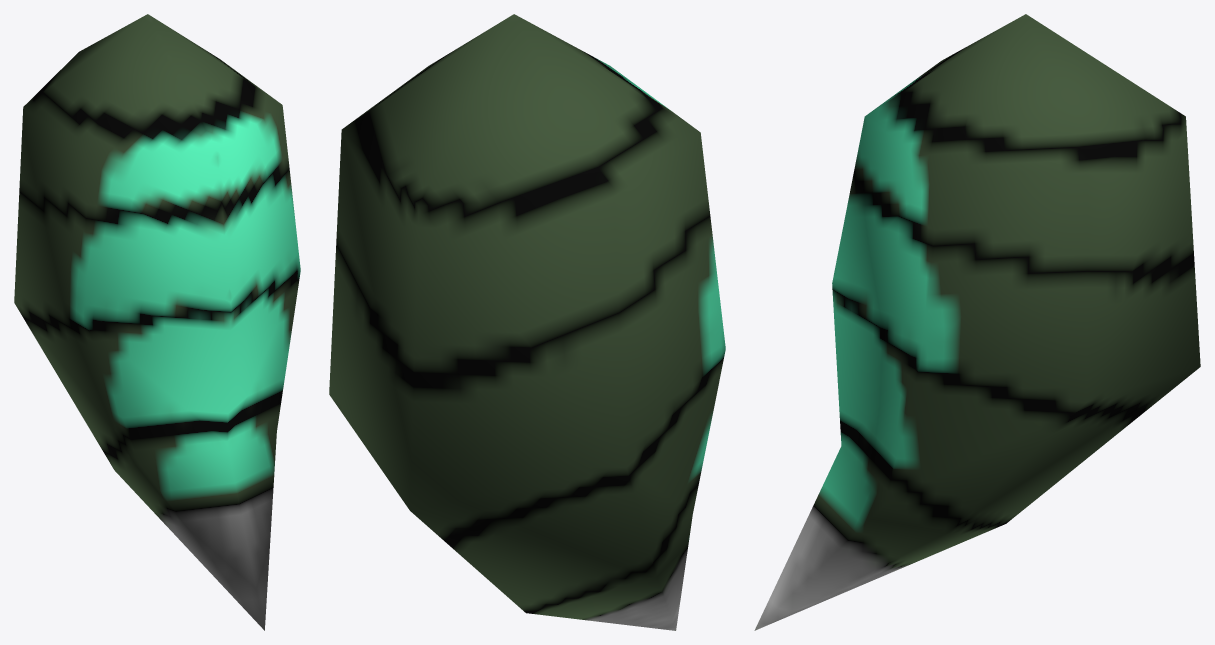
Rendered from wasp_stinger_isolated.fbx.
3 views of the same model, side by side, from view 1: azimuth 30°, elevation 25°; view 2: azimuth 150°, elevation 25°; view 3: azimuth 270°, elevation 25° (orthographic). The views are drawn at different scales.
Visible parts, largest first — view 1: stinger; view 2: stinger; view 3: stinger.
Boxes of the visible parts, x1,y1,x2,y2 form: stinger: (14, 14, 300, 630); stinger: (329, 14, 725, 630); stinger: (754, 14, 1200, 630).
Size of the model in its own units: 1.14 by 2.7 by 1.77.
